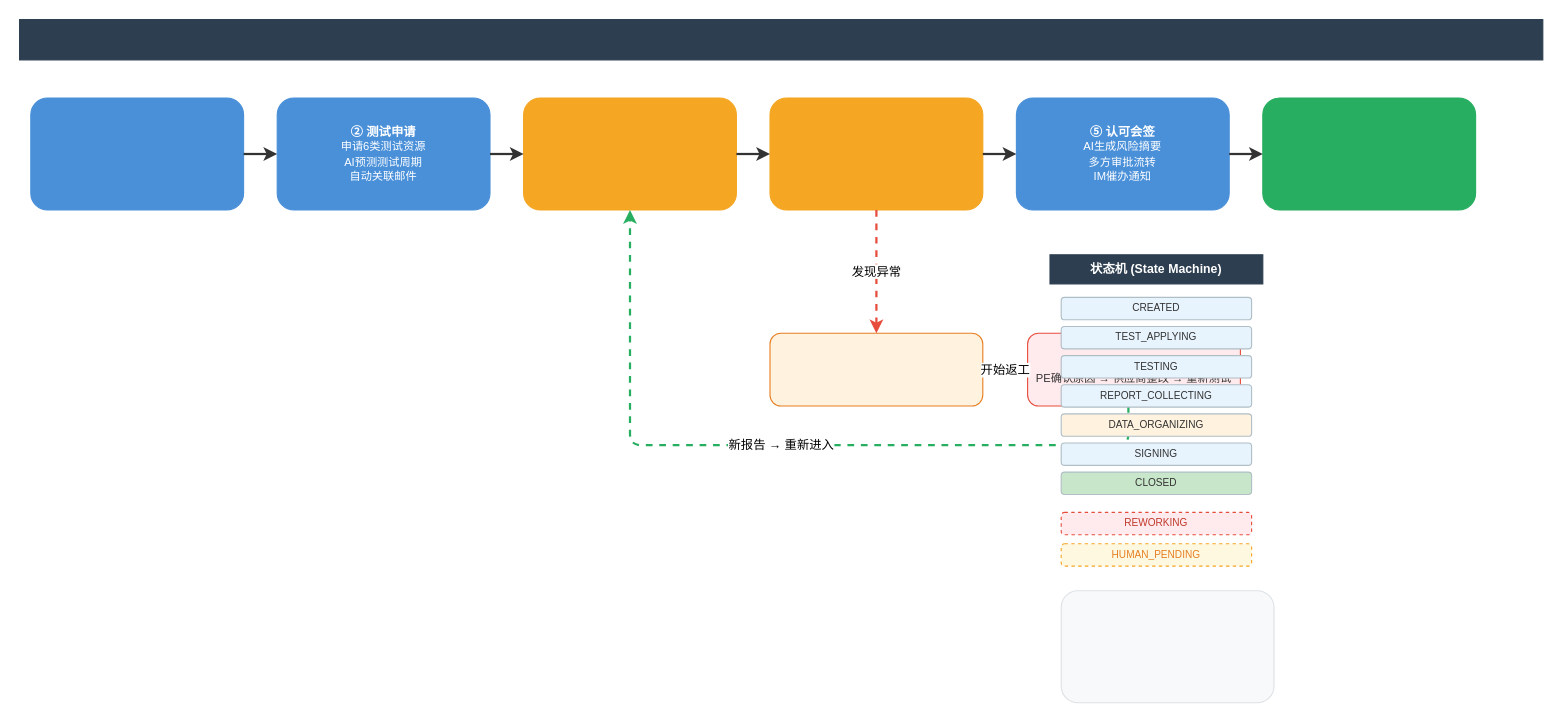
Some shapes in this 1562 by 722 pixel diagram are drawn without their labels. The centre of each missing label's shape, as x and y in pixels:
"OTS 认可业务流程图 | 六节点主流程 + 返工分支 + 状态机" belongs at (x=780, y=39).
"① 认可发起 PE录入零件信息 Excel批量导入 AI推荐测试类型" belongs at (x=137, y=153).
"③ 报告收取 ⭐ 邮件自动监听 多模态解析PDF/图片/Excel 字段提取+置信度校验" belongs at (x=629, y=153).
"④ 资料整理 ⭐ 动态生成检查清单 AI完整性检查 异常自动识别" belongs at (x=876, y=153).
"⑥ 结案归档 认可案例入库 向量知识库 历史经验复用" belongs at (x=1369, y=153).
"图例 🔵 蓝色 = 普通节点 🟠 橙色 = 核心AI节点 🟢 绿色 = 终点/结案 🔴 红色虚线 = 异常分支 ⬜ 右侧 = 状态机" belongs at (x=1167, y=646).
"异常发现 FAIL项 / 资料缺失" belongs at (x=876, y=369).
